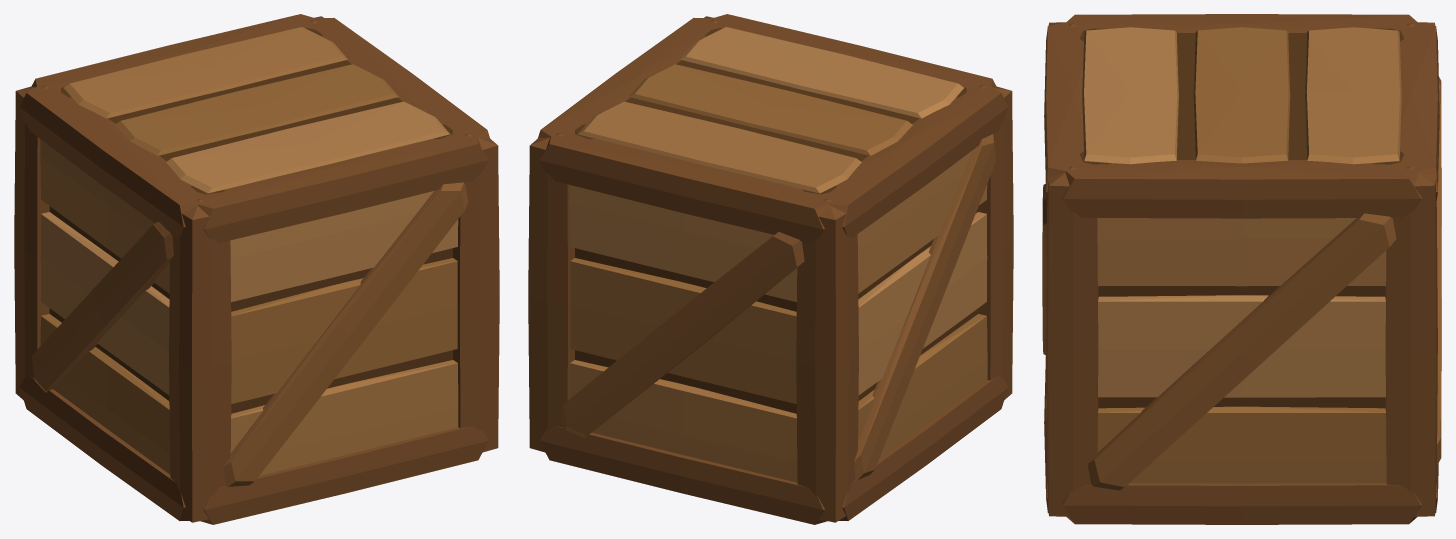
File: wood-box.glb
The picture shows the model from 3 angles, left to right: view 1: azimuth 30°, elevation 25°; view 2: azimuth 150°, elevation 25°; view 3: azimuth 270°, elevation 25°; orthographic projection. The views are drawn at different scales.
Visible parts, largest first — view 1: wood-box; view 2: wood-box; view 3: wood-box.
Part boxes in pixels (x1,y1,x2,y2): wood-box: (14,14,499,524); wood-box: (528,14,1013,524); wood-box: (1042,14,1441,524).
Size of the model in its own units: 1.04 by 1.01 by 1.04.
